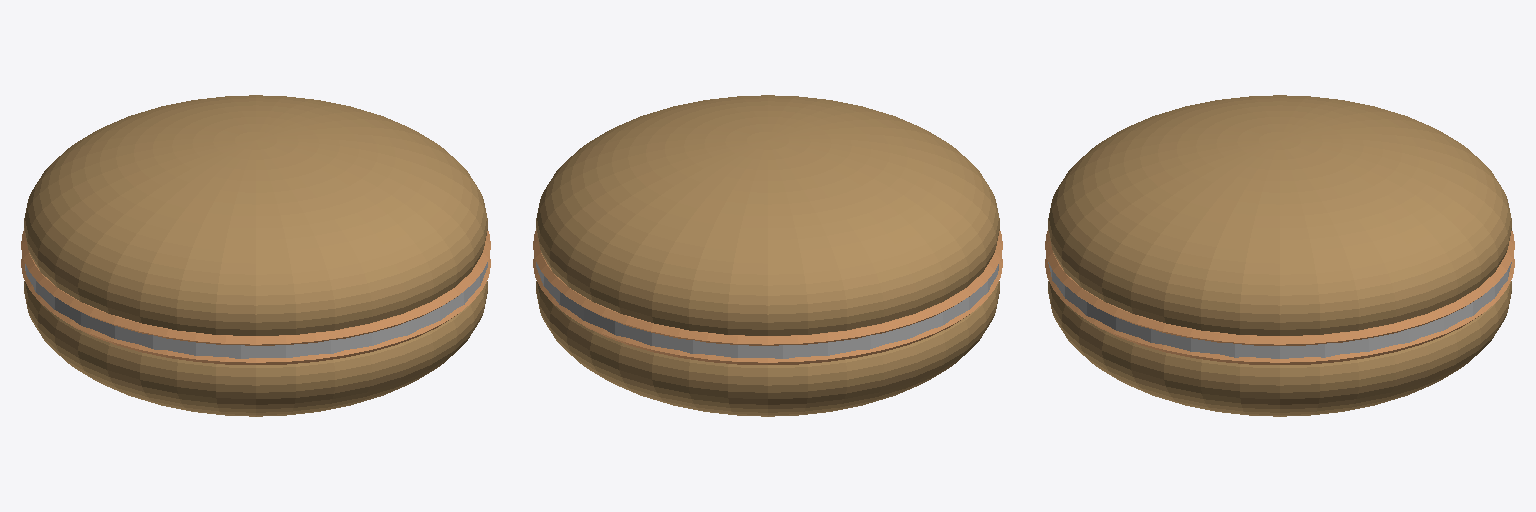
Rendered from makalong2.obj.
3 views of the same model, side by side, from view 1: azimuth 30°, elevation 25°; view 2: azimuth 150°, elevation 25°; view 3: azimuth 270°, elevation 25° (orthographic).
Visible parts, largest first — view 1: Sphere_Sphere.001, Sphere.001_Sphere.002, Cylinder, Torus.001, Torus; view 2: Sphere_Sphere.001, Sphere.001_Sphere.002, Cylinder, Torus.001, Torus; view 3: Sphere_Sphere.001, Sphere.001_Sphere.002, Cylinder, Torus.001, Torus.
Part boxes in pixels (x1,y1,x2,y2): Sphere_Sphere.001: (24,95,487,335); Sphere.001_Sphere.002: (24,281,487,416); Cylinder: (25,262,487,358); Torus.001: (21,231,490,345); Torus: (21,256,490,364); Sphere_Sphere.001: (536,95,999,335); Sphere.001_Sphere.002: (536,281,999,416); Cylinder: (536,262,998,358); Torus.001: (533,231,1002,345); Torus: (533,256,1002,364); Sphere_Sphere.001: (1048,95,1511,335); Sphere.001_Sphere.002: (1048,281,1511,416); Cylinder: (1048,262,1511,358); Torus.001: (1045,231,1514,345); Torus: (1045,256,1514,364).
Bounding box in the file's own units: 2.02 × 1.1 × 2.02.